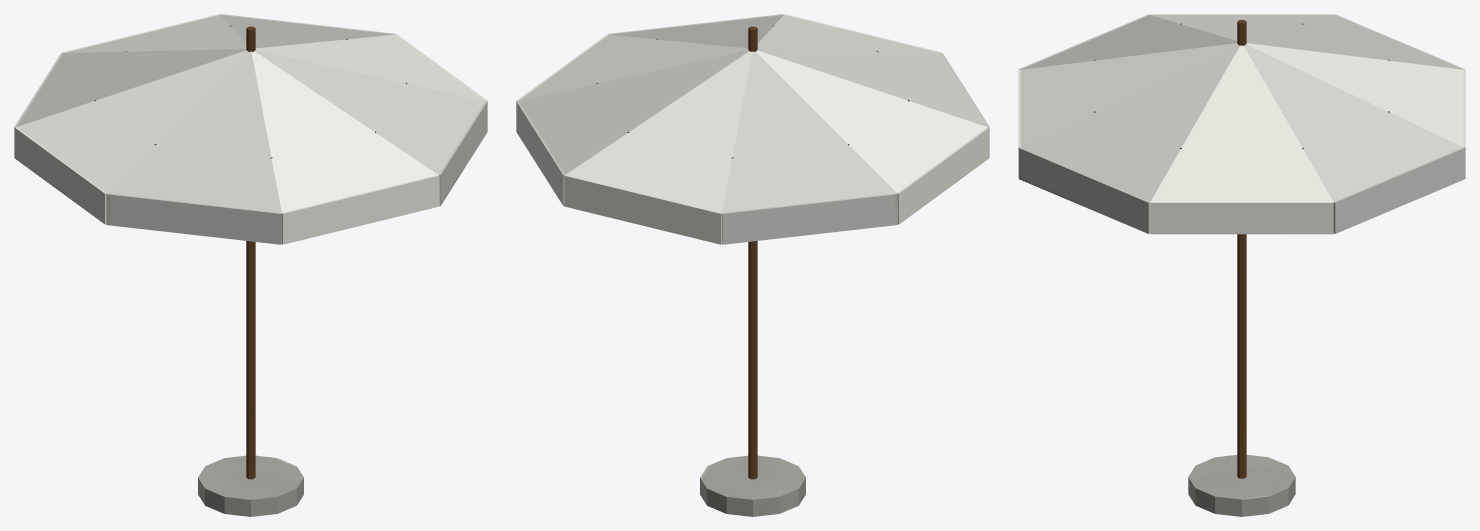
The model's file is slunecnik_f6d29112.glb.
3 views of the same model, side by side, from view 1: azimuth 30°, elevation 25°; view 2: azimuth 150°, elevation 25°; view 3: azimuth 270°, elevation 25° (orthographic).
Visible parts, largest first — view 1: dum; view 2: dum; view 3: dum.
Part boxes in pixels (x1,y1,x2,y2): dum: (14, 14, 487, 516); dum: (516, 14, 989, 516); dum: (1018, 14, 1465, 516).
Size of the model in its own units: 2.33 by 2.71 by 2.33.
Materials: 1 (1 with a texture image).
